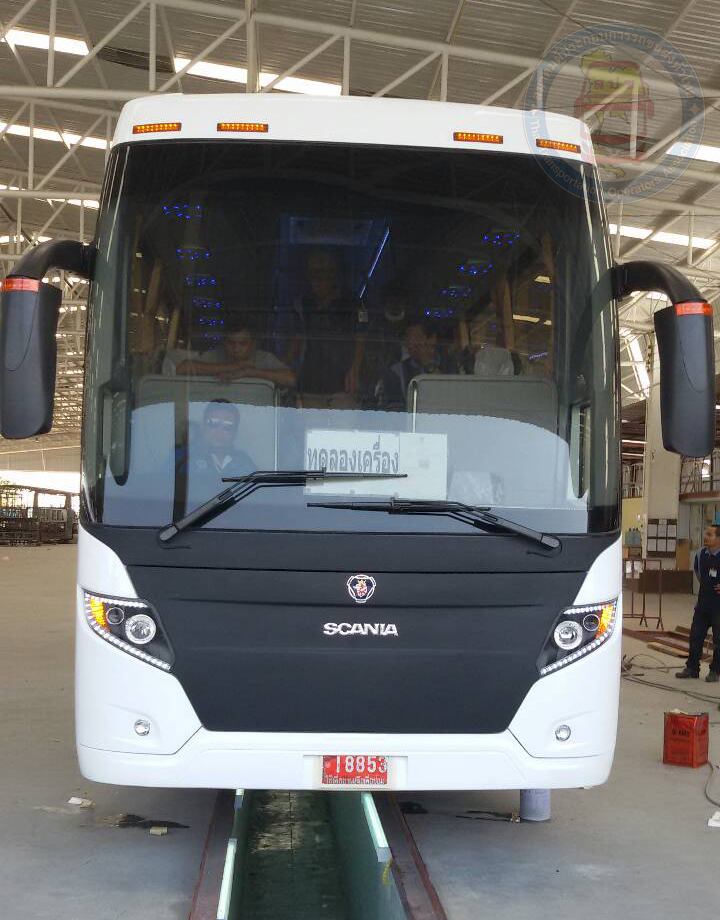bus: (81, 90, 625, 789)
